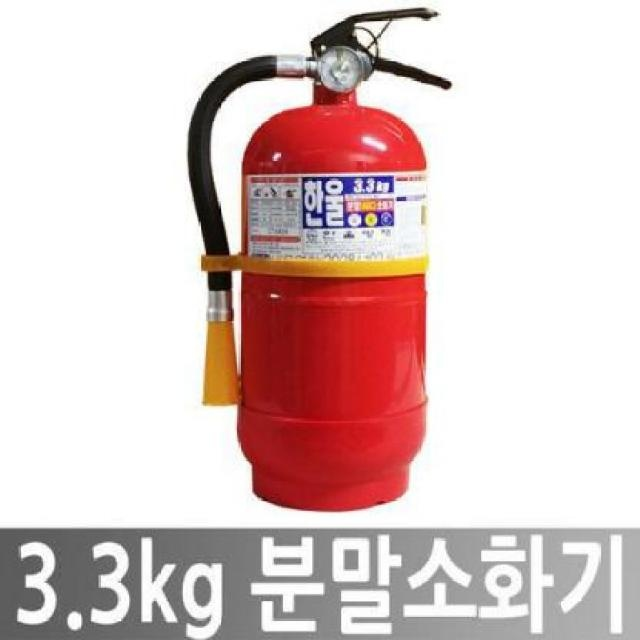fire extinguisher: (185, 8, 453, 512)
